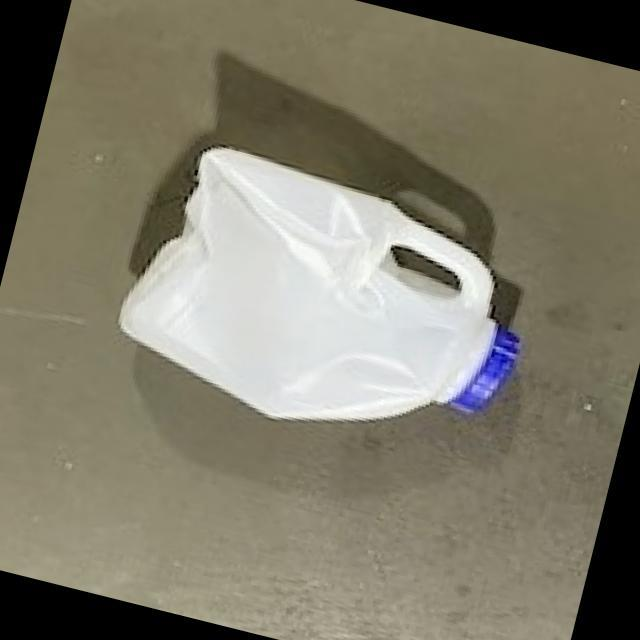HDPE Plastic: (116, 143, 522, 426)
